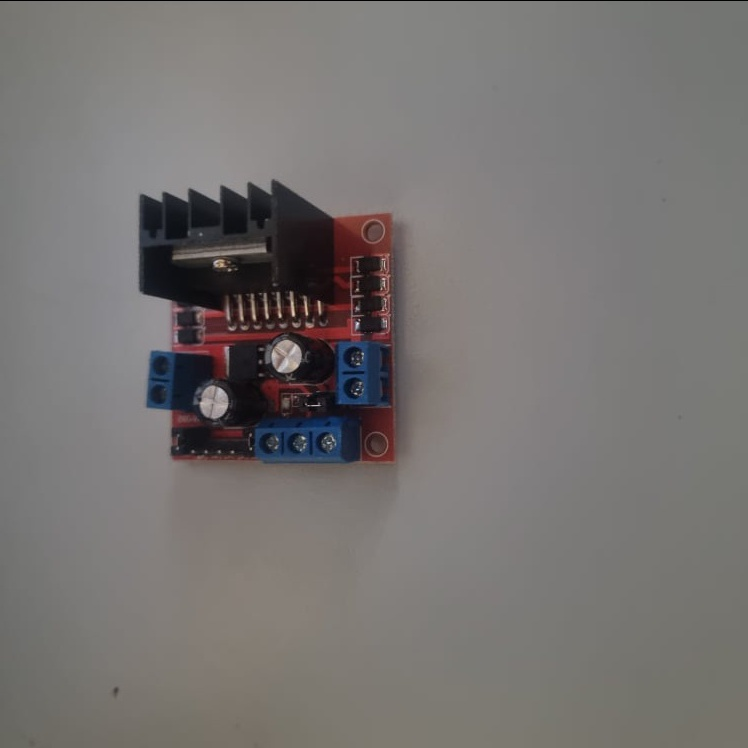MOTOR: (135, 178, 399, 467)
